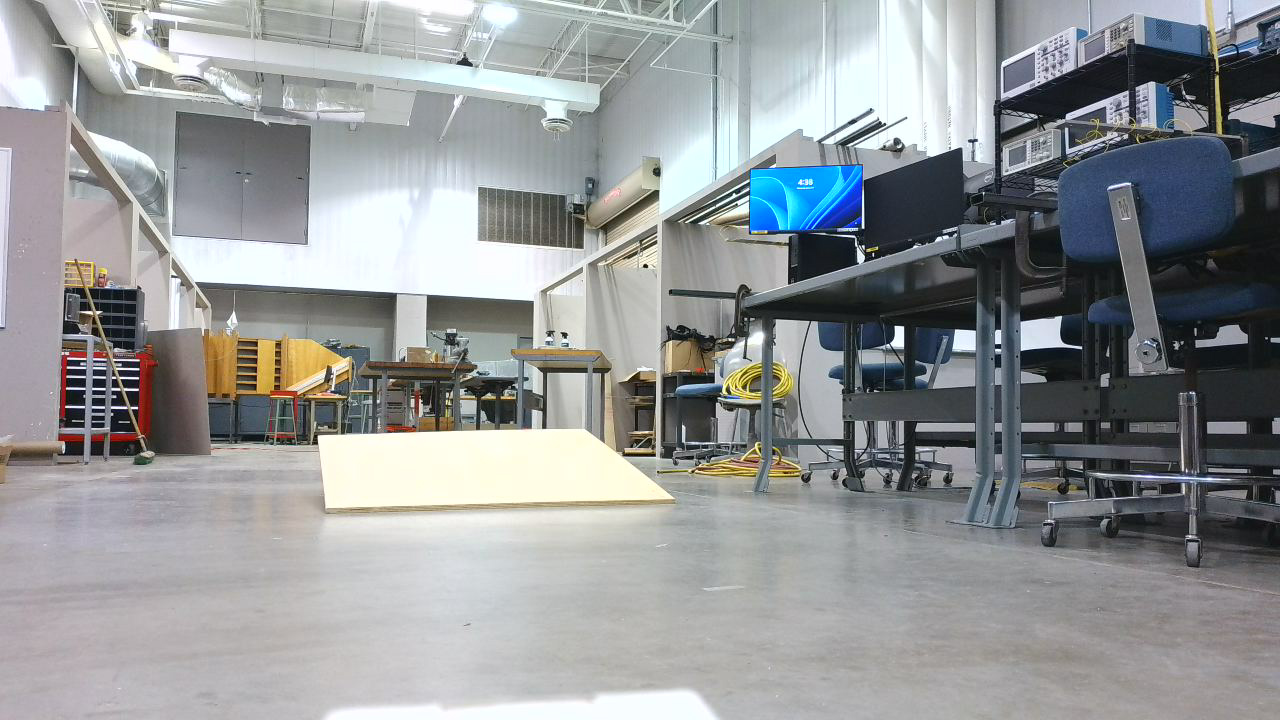ramp: (319, 427, 683, 522)
